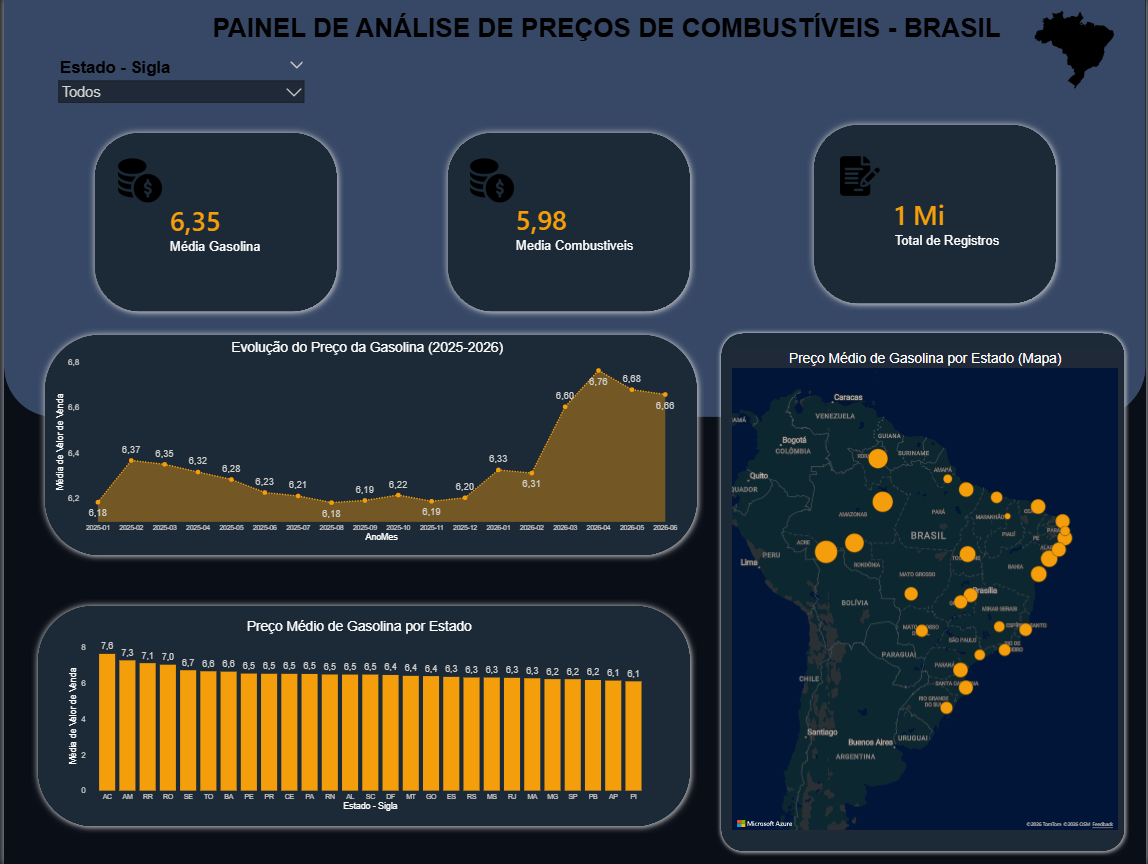

This screenshot's page, from the dashboard's own definition file:
{"tool":"powerbi","page":{"name":"Página 1","canvas":[2100,1600],"ordinal":0},"visuals":[{"type":"shape","box":[0,0,2099.8,774.3],"z":0},{"type":"shape","box":[1309.6,610.4,760.5,971.9],"z":1000},{"type":"shape","box":[154.1,239,470.1,353.6],"z":2000},{"type":"shape","box":[1477.5,225.2,470.1,353.6],"z":3000},{"type":"shape","box":[49.4,1108.1,1224.7,430.6],"z":4000},{"type":"shape","title":"Evolução do Preço da Gasolina (2025-2026)","box":[63.2,610.4,1224.7,430.6],"z":5000},{"type":"shape","box":[804,239,470.1,353.6],"z":6000},{"type":"cardVisual","fields":{"Data":["precos_combustiveis_tratados.Preço Médio"]},"box":[912.6,341.7,276.5,167.9],"z":7000},{"type":"cardVisual","fields":{"Data":["precos_combustiveis_tratados.Preço Médio Gasolina"]},"box":[276.5,333.8,286.4,185.7],"z":8000},{"type":"cardVisual","fields":{"Data":["precos_combustiveis_tratados.Total de Registros"]},"box":[1609.9,324,260.7,185.7],"z":9000},{"type":"lineChart","title":"Evolução do Preço da Gasolina (2025-2026)","fields":{"Category":["precos_combustiveis_tratados.AnoMes"],"Y":["Avg(precos_combustiveis_tratados.Valor de Venda)"]},"box":[90.9,630.1,1155.6,377.3],"z":10000},{"type":"clusteredColumnChart","title":"Preço Médio de Gasolina por Estado","fields":{"Y":["Avg(precos_combustiveis_tratados.Valor de Venda)"],"Category":["precos_combustiveis_tratados.Estado - Sigla"]},"box":[114.6,1143.7,1078.5,359.5],"z":11000},{"type":"azureMap","title":"Preço Médio de Gasolina por Estado (Mapa)","fields":{"Category":["precos_combustiveis_tratados.NomeEstado"],"Size":["Avg(precos_combustiveis_tratados.PrecoMedioEstadoGasolina)"]},"box":[1333.3,651.9,721,886.9],"z":12000},{"type":"textbox","box":[345.7,25.7,1524.9,173.8],"z":13000},{"type":"slicer","fields":{"Values":["precos_combustiveis_tratados.Estado - Sigla"]},"box":[90.9,108.6,472.1,126.4],"z":14000},{"type":"image","box":[209.4,290.4,81,96.8],"z":15000},{"type":"image","box":[1536.8,290.4,73.1,81],"z":16000},{"type":"image","box":[857.3,290.4,81,96.8],"z":17000},{"type":"image","box":[1880.5,25.7,173.8,146.2],"z":18000}]}

Visuals, with their boxes in screenshot pixels (x1, y1, x2, y2), scaled from the page's 2100x1600 canvas onto the 1148x864 screenshot:
shape: (x1=0, y1=0, x2=1147, y2=418)
shape: (x1=716, y1=330, x2=1132, y2=854)
shape: (x1=84, y1=129, x2=341, y2=320)
shape: (x1=808, y1=122, x2=1065, y2=313)
shape: (x1=27, y1=598, x2=697, y2=831)
"Evolução do Preço da Gasolina (2025-2026)" shape: (x1=35, y1=330, x2=704, y2=562)
shape: (x1=440, y1=129, x2=697, y2=320)
cardVisual - precos_combustiveis_tratados.Preço Médio: (x1=499, y1=185, x2=650, y2=275)
cardVisual - precos_combustiveis_tratados.Preço Médio Gasolina: (x1=151, y1=180, x2=308, y2=281)
cardVisual - precos_combustiveis_tratados.Total de Registros: (x1=880, y1=175, x2=1023, y2=275)
"Evolução do Preço da Gasolina (2025-2026)" lineChart: (x1=50, y1=340, x2=681, y2=544)
"Preço Médio de Gasolina por Estado" clusteredColumnChart: (x1=63, y1=618, x2=652, y2=812)
"Preço Médio de Gasolina por Estado (Mapa)" azureMap: (x1=729, y1=352, x2=1123, y2=831)
textbox: (x1=189, y1=14, x2=1023, y2=108)
slicer - precos_combustiveis_tratados.Estado - Sigla: (x1=50, y1=59, x2=308, y2=127)
image: (x1=114, y1=157, x2=159, y2=209)
image: (x1=840, y1=157, x2=880, y2=201)
image: (x1=469, y1=157, x2=513, y2=209)
image: (x1=1028, y1=14, x2=1123, y2=93)
